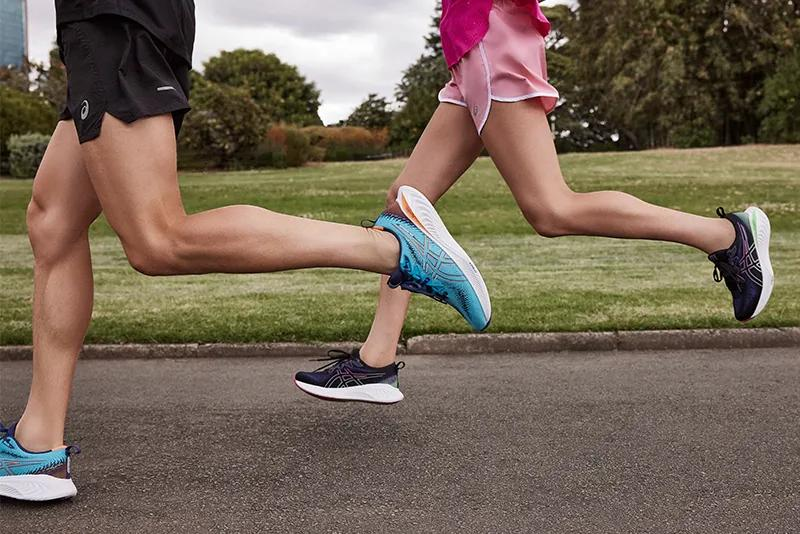asics logo: (379, 212, 475, 294), (731, 217, 771, 291), (315, 364, 395, 393)
